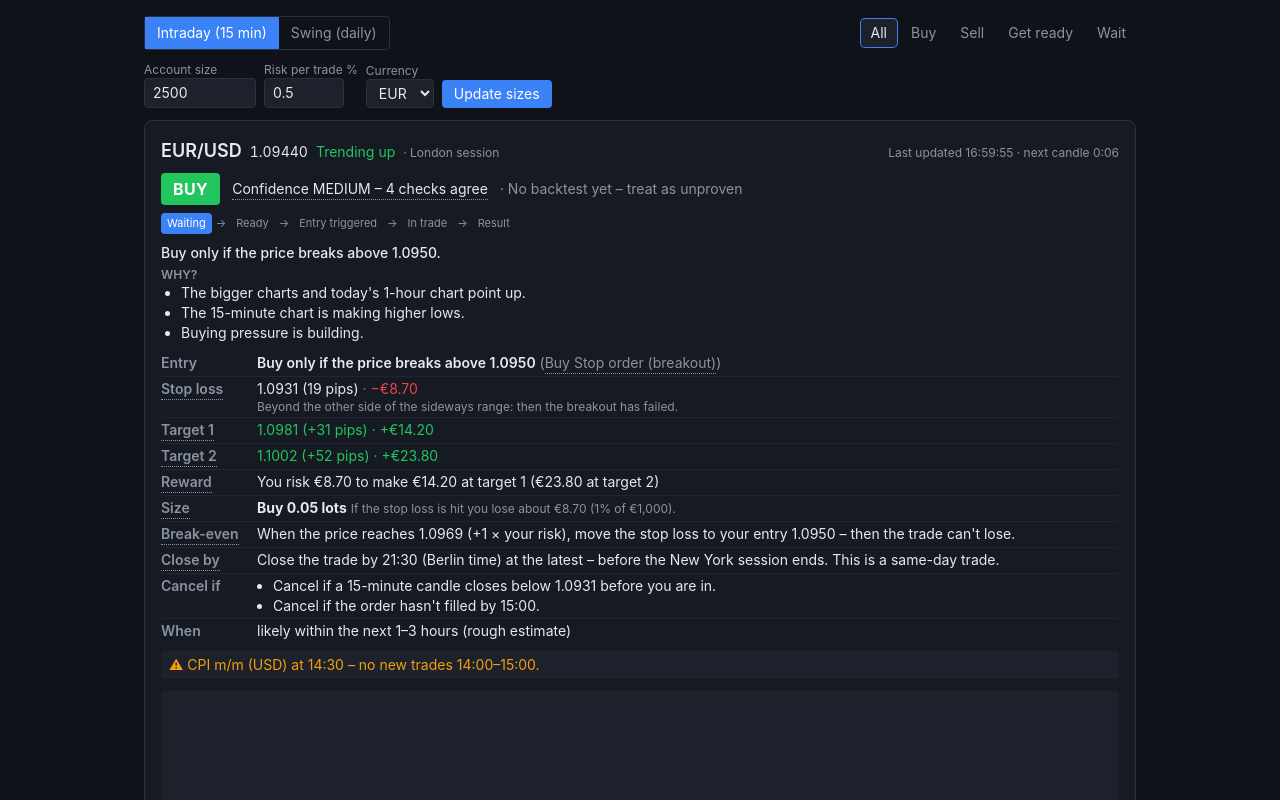
Test: Trade Plan tab › lists cards strongest first, filters them, sizes with settings defaults and subscribes to plan topics
Click the button "Wait" at (1112, 33), box x1=1087 y1=19 x2=1136 y2=47
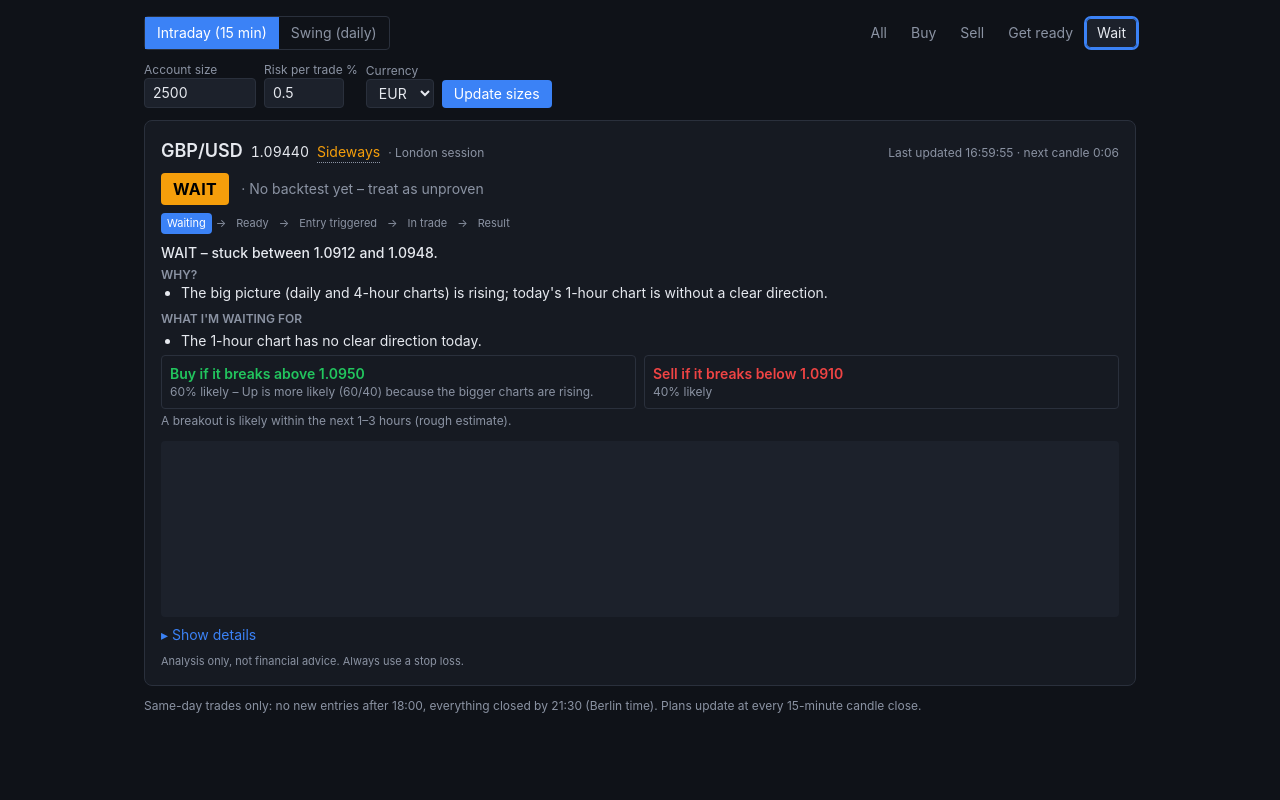
Now the number of elements with test id "plan-card" is 1, box x1=144 y1=120 x2=1136 y2=686
Click the button "Get ready" at (1041, 33), box x1=998 y1=19 x2=1083 y2=47
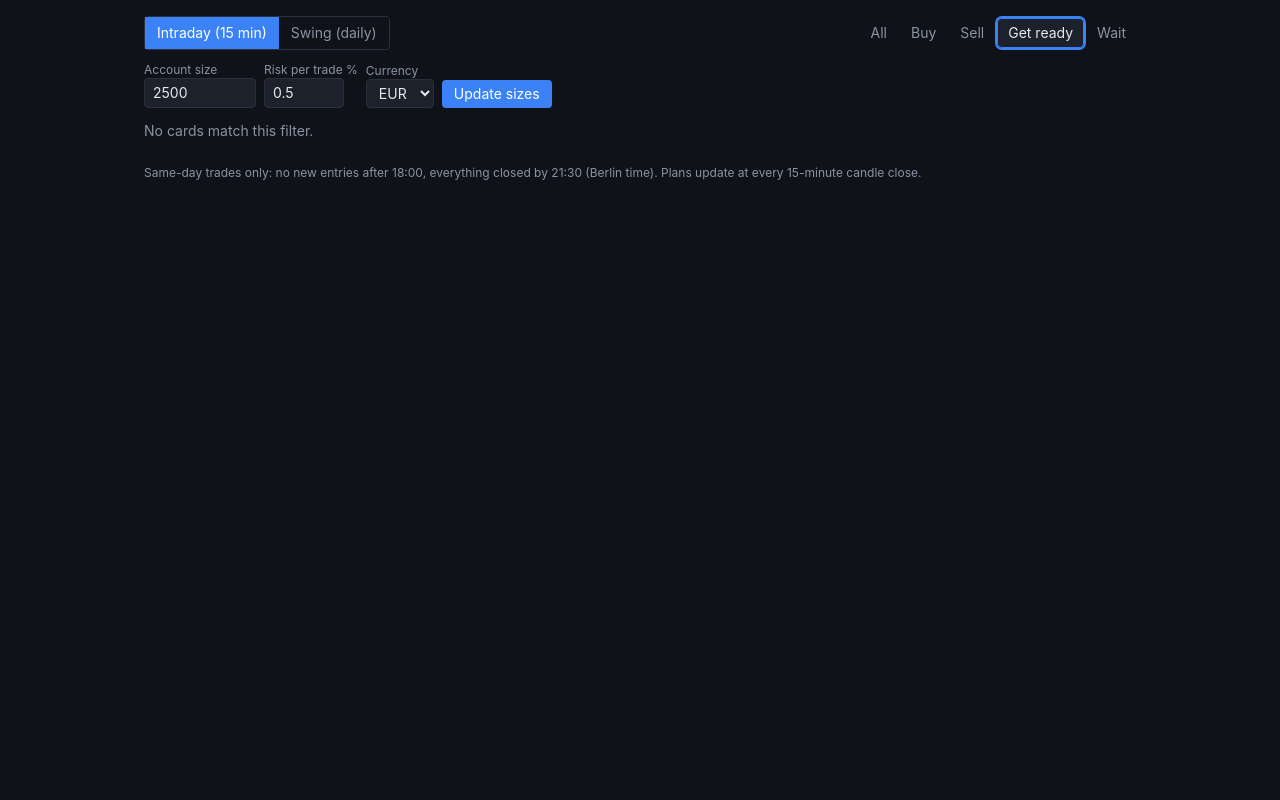
Expected: the text "no new entries after 18:00, everything closed by 21:30" is shown, x1=144 y1=165 x2=921 y2=180
Now the text "No cards match this filter." is shown, box x1=144 y1=122 x2=313 y2=139
